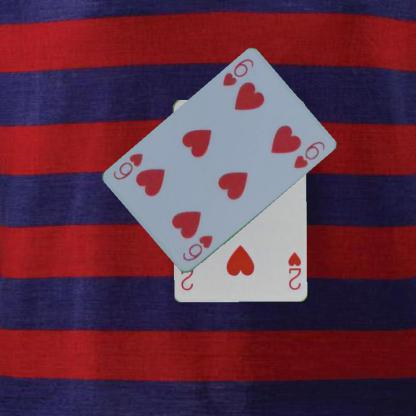2h: (285, 249, 302, 291)
6h: (220, 56, 256, 88), (179, 232, 214, 263)
